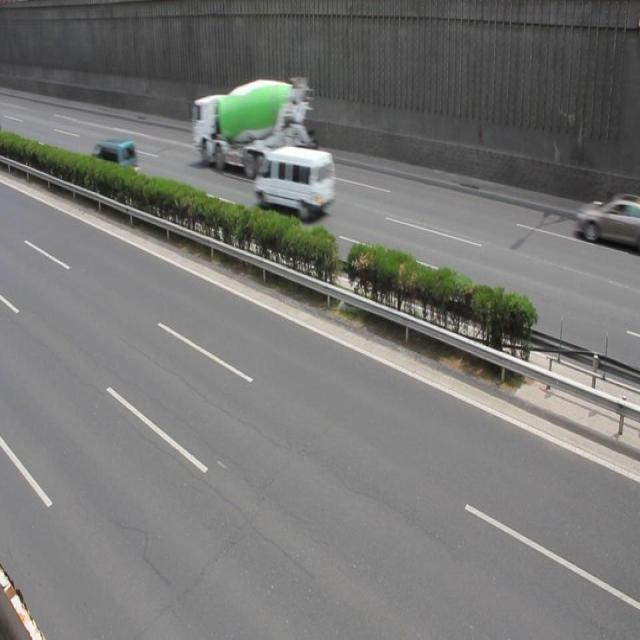bus: (192, 74, 310, 176)
car: (572, 190, 640, 247)
truck: (254, 144, 335, 220), (88, 137, 140, 190)
